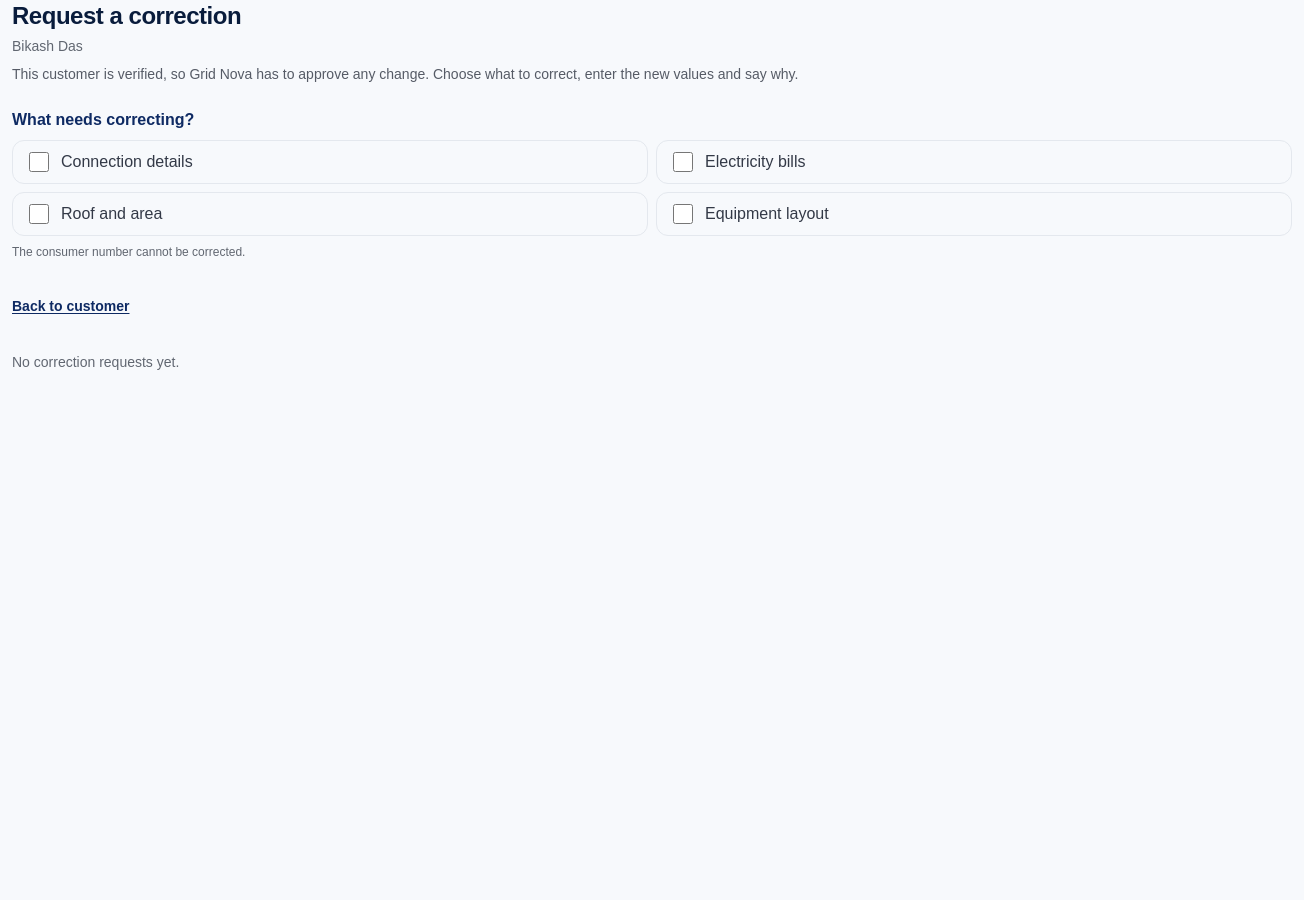
Scenario: Correction request page › needs at least one change and a reason, and says so
The image size is (1304, 900).
What coordinates should you click on to do the following:
click the checkbox labelled "Connection details"
I would click on:
 (39, 162)
Its box is [29,152,49,172].
(page scrolled)
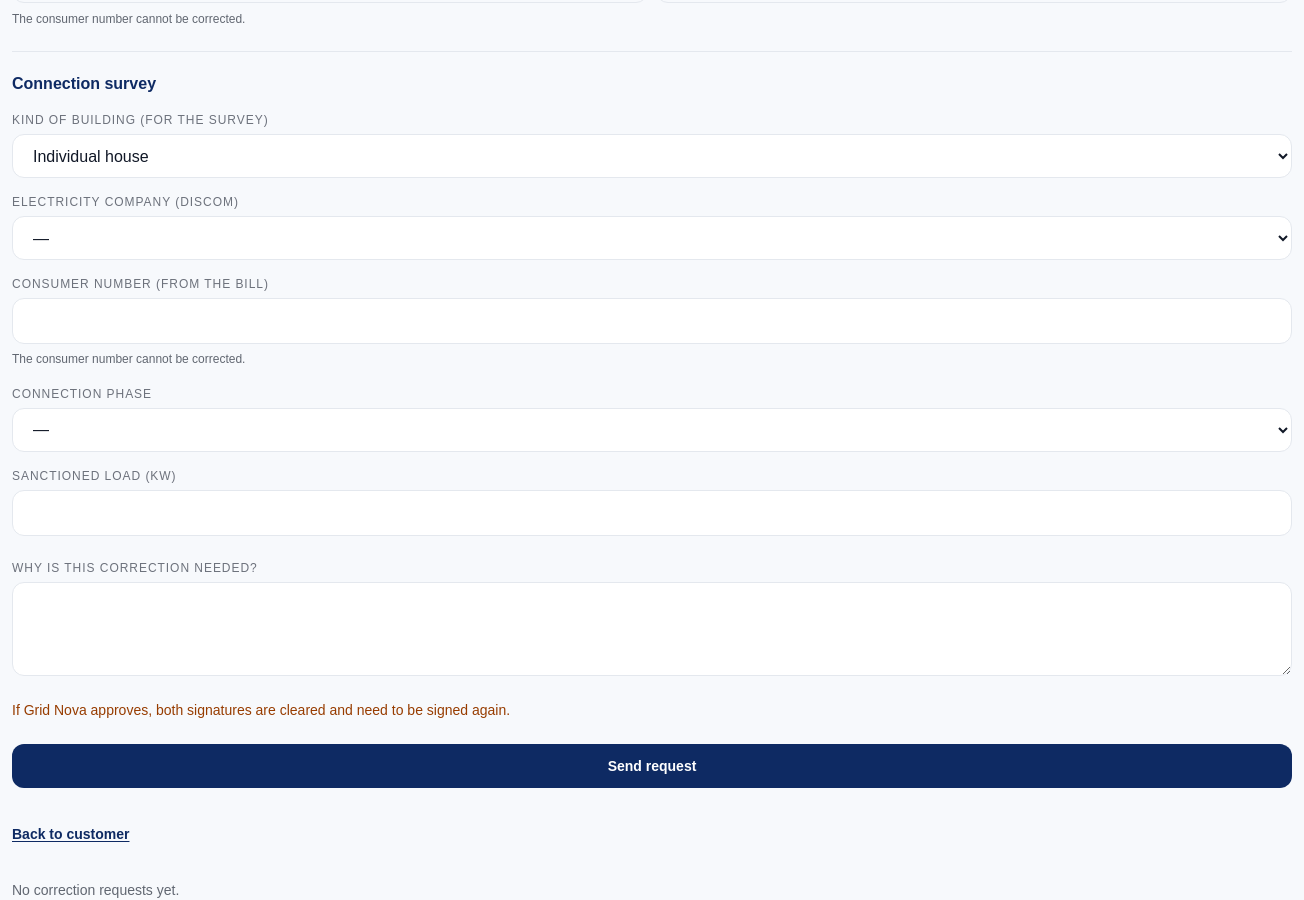
What coordinates should you click on to do the following:
click the button "Send request"
I would click on:
 (652, 766)
Its box is [12,744,1292,788].
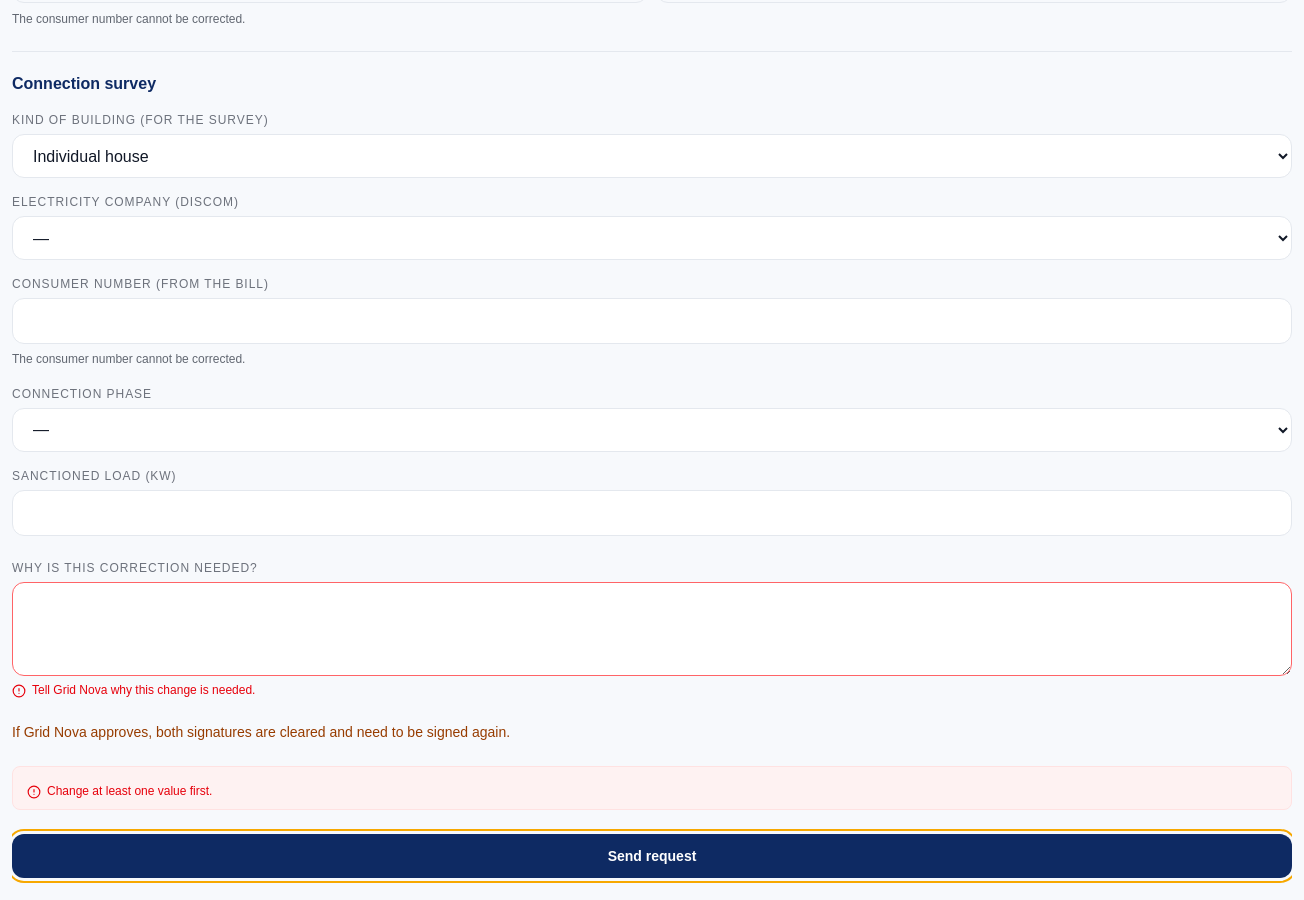
Now the text "Tell Grid Nova why this change is needed." is shown, box [12,682,256,698]
Now the message reads "Change at least one value first.", box [47,784,212,798]
